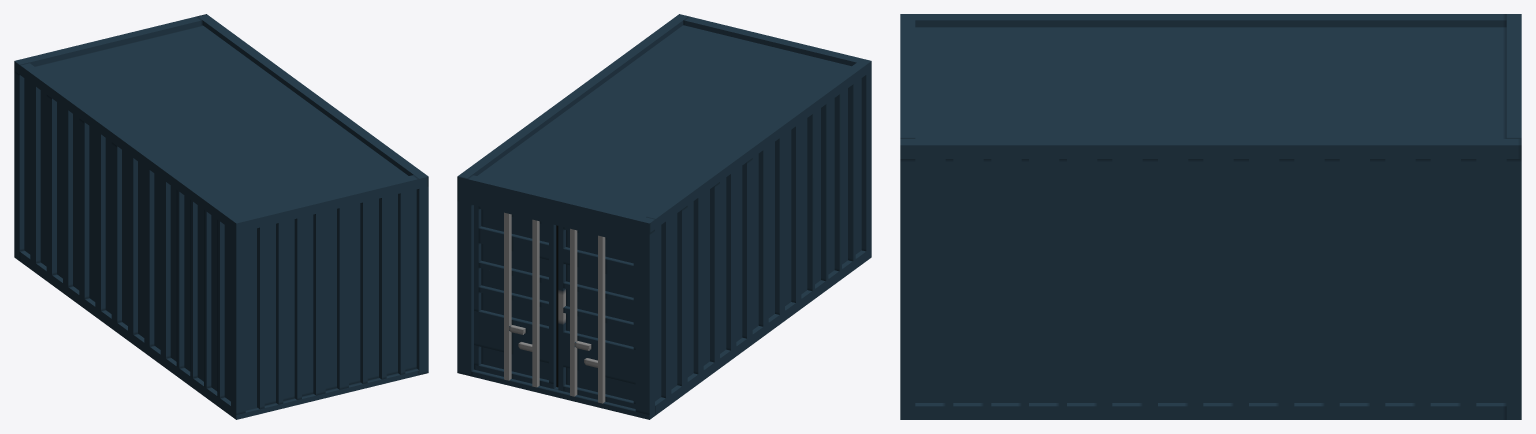
File: kontyner_nieb.dae
3 renders of one model, left to right at view 1: azimuth 30°, elevation 25°; view 2: azimuth 150°, elevation 25°; view 3: azimuth 270°, elevation 25°, orthographic. The views are drawn at different scales.
Visible parts, largest first — view 1: Content; view 2: Content; view 3: Content.
Boxes of the visible parts, x1,y1,x2,y2 form: Content: (14,14,428,419); Content: (457,14,871,419); Content: (900,14,1521,419).
Size of the model in its own units: 41 by 40 by 82.
1 material, 1 textured.
